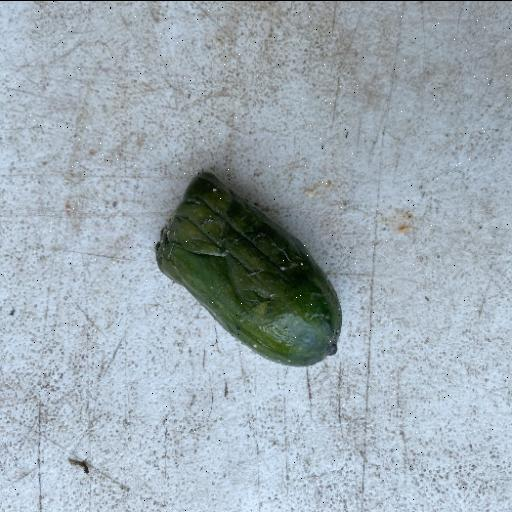Waste: (152, 168, 342, 368)
